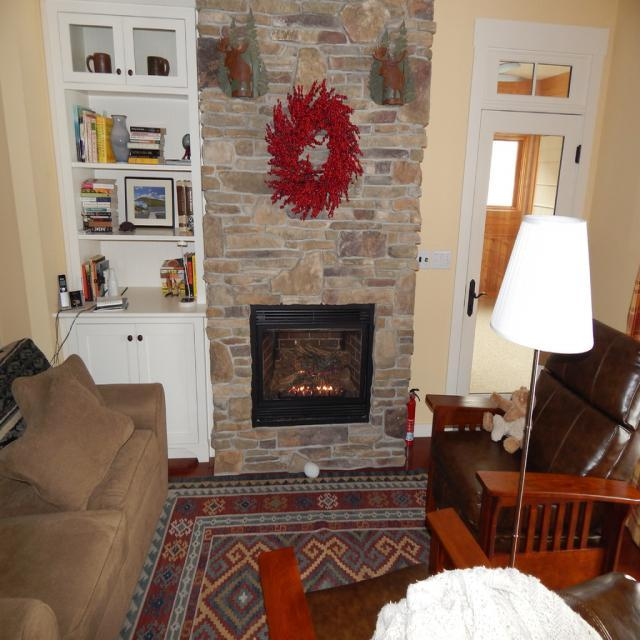Fire: (276, 372, 343, 398)
